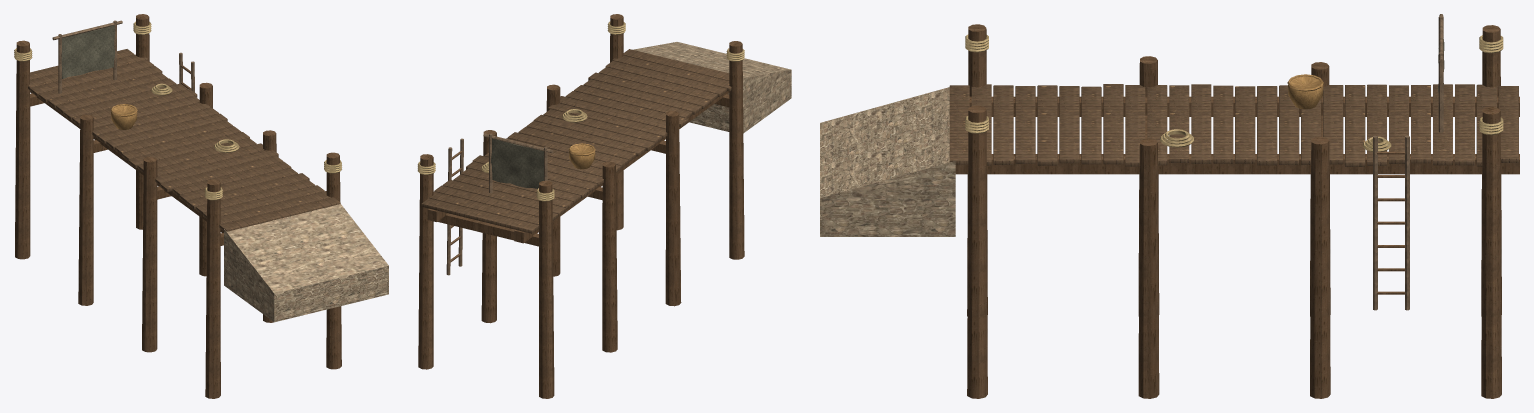
The model's file is country_jetty.glb.
The picture shows the model from 3 angles, left to right: view 1: azimuth 30°, elevation 25°; view 2: azimuth 150°, elevation 25°; view 3: azimuth 270°, elevation 25°; orthographic projection. The views are drawn at different scales.
Parts seen in each view (by area): view 1: plank, wood_dark, drystone, net.001, rope, wood, wicker; view 2: wood_dark, plank, drystone, net.001, wood, rope, wicker; view 3: plank, wood_dark, drystone, wood, rope, wicker.
Boxes of the visible parts, x1=… form: plank: x1=28, y1=49, x2=340, y2=231; wood_dark: x1=15, y1=14, x2=341, y2=398; drystone: x1=224, y1=204, x2=388, y2=322; net.001: x1=61, y1=25, x2=114, y2=78; rope: x1=14, y1=21, x2=341, y2=200; wood: x1=52, y1=20, x2=194, y2=93; wicker: x1=110, y1=104, x2=137, y2=129; wood_dark: x1=418, y1=14, x2=744, y2=398; plank: x1=421, y1=49, x2=731, y2=233; drystone: x1=633, y1=42, x2=791, y2=133; net.001: x1=491, y1=138, x2=544, y2=188; wood: x1=446, y1=133, x2=553, y2=275; rope: x1=417, y1=21, x2=744, y2=201; wicker: x1=569, y1=143, x2=595, y2=169; plank: x1=949, y1=84, x2=1518, y2=166; wood_dark: x1=955, y1=24, x2=1519, y2=398; drystone: x1=820, y1=87, x2=955, y2=236; wood: x1=1373, y1=14, x2=1443, y2=310; rope: x1=965, y1=34, x2=1503, y2=151; wicker: x1=1287, y1=74, x2=1323, y2=109.
Size of the model in its own units: 3.01 by 4.8 by 9.8.
7 materials, 7 textured.
